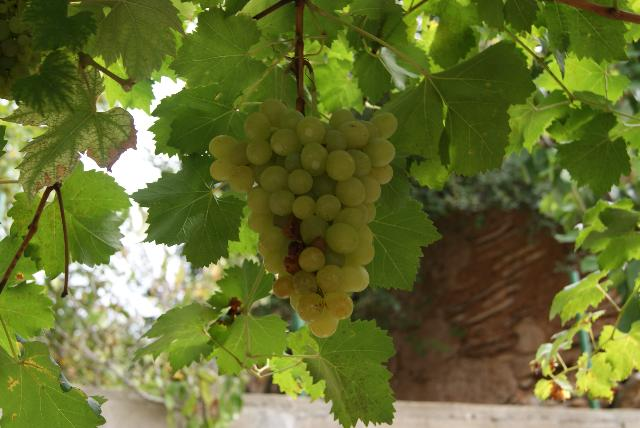grapes: (209, 99, 398, 339)
